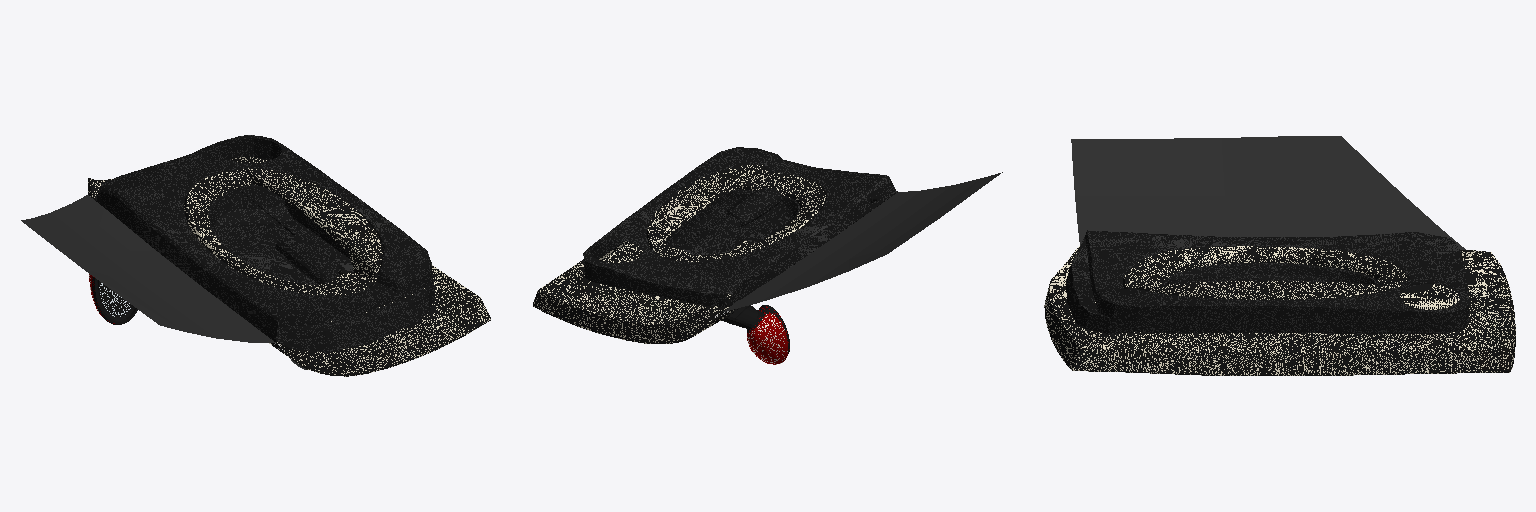
URDF robot description (car):
<?xml version="1.0" ?>
<robot name="car">
	<link name="base"/>
	<link name="link_0">
		<visual name="out-frame">
			<origin xyz="0 0 0"/>
			<geometry>
				<mesh filename="texture_dae/car-board.dae" scale="0.8194340918640387 0.8194340918640387 0.8194340918640387"/>
			</geometry>
		</visual>
		<collision>
			<origin xyz="0 0 0"/>
			<geometry>
				<mesh filename="texture_dae/car-board.dae" scale="0.8194340918640387 0.8194340918640387 0.8194340918640387"/>
			</geometry>
		</collision>
	</link>
	<joint name="joint_0" type="fixed">
		<origin rpy="1.570796326794897 0 -1.570796326794897" xyz="0 0 0"/>
		<child link="link_0"/>
		<parent link="base"/>
	</joint>
	<link name="link_1">
		<visual name="surf-board">
			<origin xyz="1.0933330018041565 -0.5556881008435149 0"/>
			<geometry>
				<mesh filename="texture_dae/car-door.dae" scale="0.8194340918640387 0.8194340918640387 0.8194340918640387"/>
			</geometry>
		</visual>
		<collision>
			<origin xyz="1.0933330018041565 -0.5556881008435149 0"/>
			<geometry>
				<mesh filename="texture_dae/car-door.dae" scale="0.8194340918640387 0.8194340918640387 0.8194340918640387"/>
			</geometry>
		</collision>
	</link>
	<joint name="joint_1" type="revolute">
		<origin xyz="-1.0933330018041565 0.5556881008435149 0"/>
		<axis xyz="0 -1 0"/>
		<child link="link_1"/>
		<parent link="link_0"/>
		<limit lower="0" upper="1.5079644737231006"/>
	</joint>
	<link name="link_2">
		<visual name="handle">
			<origin xyz="0 0 0"/>
			<geometry>
				<mesh filename="texture_dae/9968006.dae" scale="0.8640789114606462 0.8640789114606462 0.8640789114606462"/>
			</geometry>
		</visual>
		<collision>
			<origin xyz="0 0 0"/>
			<geometry>
				<mesh filename="texture_dae/9968006.dae" scale="0.8640789114606462 0.8640789114606462 0.8640789114606462"/>
			</geometry>
		</collision>
	</link>
	<joint name="joint_2" type="revolute">
		<origin xyz="1.0833330018041565 -0.5556881008435149 0.005"/>
		<child link="link_2"/>
		<parent link="link_1"/>
		<axis xyz="0 -1 0"/>
		<limit lower="0" upper="0.17453"/>
	</joint>
</robot>

--- Facts derived from the render (not from the file) ---
Views: 3 orthographic renders of the robot side by side, from view 1: azimuth 30°, elevation 25°; view 2: azimuth 150°, elevation 25°; view 3: azimuth 270°, elevation 25°.
Model car with 4 links and 3 joints (2 revolute, 1 fixed), rooted at base, posed every joint at zero.
Visible links, largest first — view 1: link_1; view 2: link_1; view 3: link_1.
Link boxes in pixels (left/top/right/bottom): link_1: left=21, top=135, right=490, bottom=376; link_1: left=533, top=147, right=1002, bottom=364; link_1: left=1044, top=136, right=1515, bottom=375.
Bounding box of the posed robot: 1.11 × 1.39 × 0.458 m (x, y, z).
Meshes: 3 distinct files referenced, 2 mesh visuals loaded (2 Collada DAE); not drawn: 1 (reference not matched to a file when rendering).
